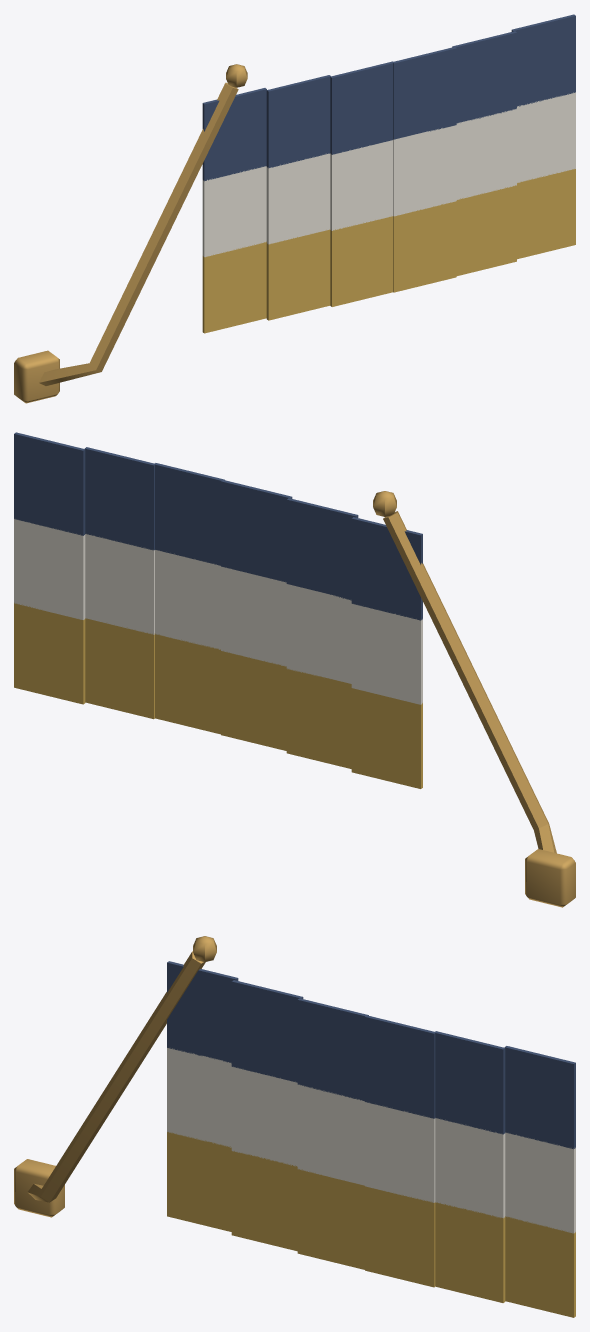
Rendered from flag_wall.glb.
The picture shows the model from 3 angles, top to bottom: view 1: azimuth 30°, elevation 25°; view 2: azimuth 150°, elevation 25°; view 3: azimuth 330°, elevation 25°; orthographic projection. The views are drawn at different scales.
Visible parts, largest first — view 1: flag_wall; view 2: flag_wall; view 3: flag_wall.
Part boxes in pixels (x1=…): flag_wall: x1=14, y1=14, x2=575, y2=403; flag_wall: x1=14, y1=432, x2=575, y2=907; flag_wall: x1=14, y1=936, x2=575, y2=1317.
Size of the model in its own units: 1.94 by 1.08 by 0.2409.
